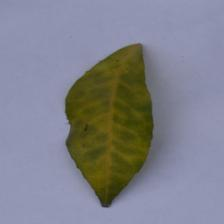greening: (97, 53, 155, 176)
